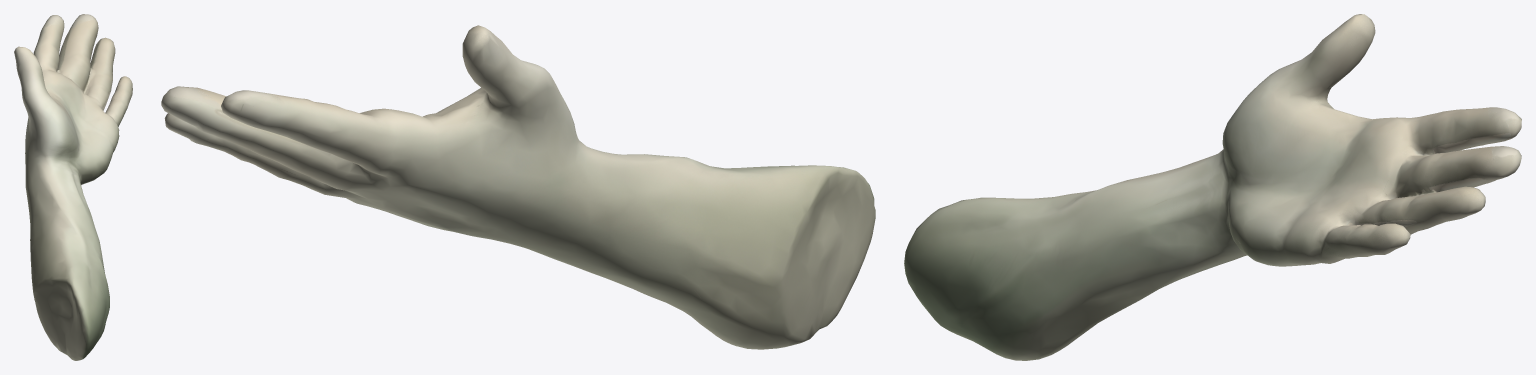
File: hand_low_poly.glb
3 views of the same model, side by side, from view 1: azimuth 30°, elevation 25°; view 2: azimuth 150°, elevation 25°; view 3: azimuth 270°, elevation 25° (orthographic). The views are drawn at different scales.
Visible parts, largest first — view 1: Mesh1.0; view 2: Mesh1.0; view 3: Mesh1.0.
Boxes of the visible parts, <box> form: Mesh1.0: <box>14,14,132,360</box>; Mesh1.0: <box>161,25,875,349</box>; Mesh1.0: <box>904,14,1521,360</box>.
Size of the model in its own units: 1.2 by 1.28 by 1.91.
1 material, 1 textured.
